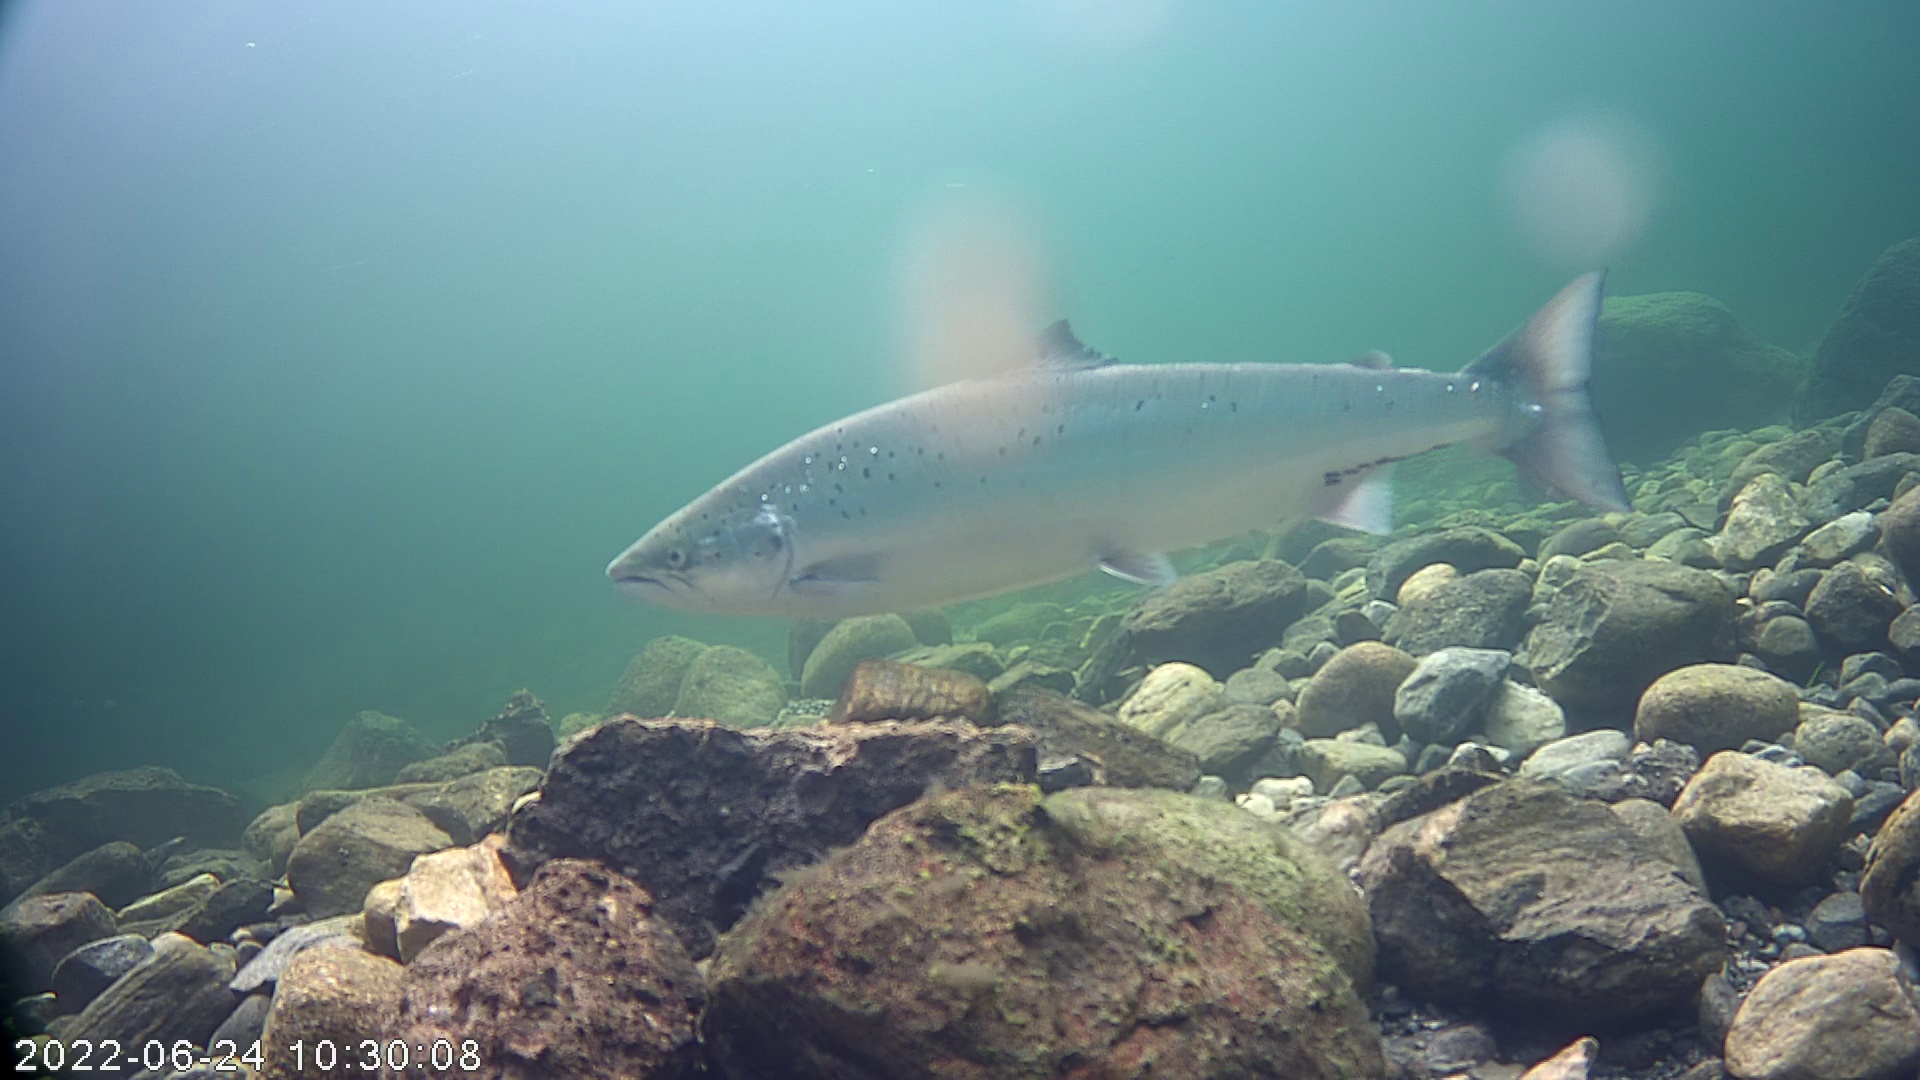salmon: (603, 265, 1633, 625)
